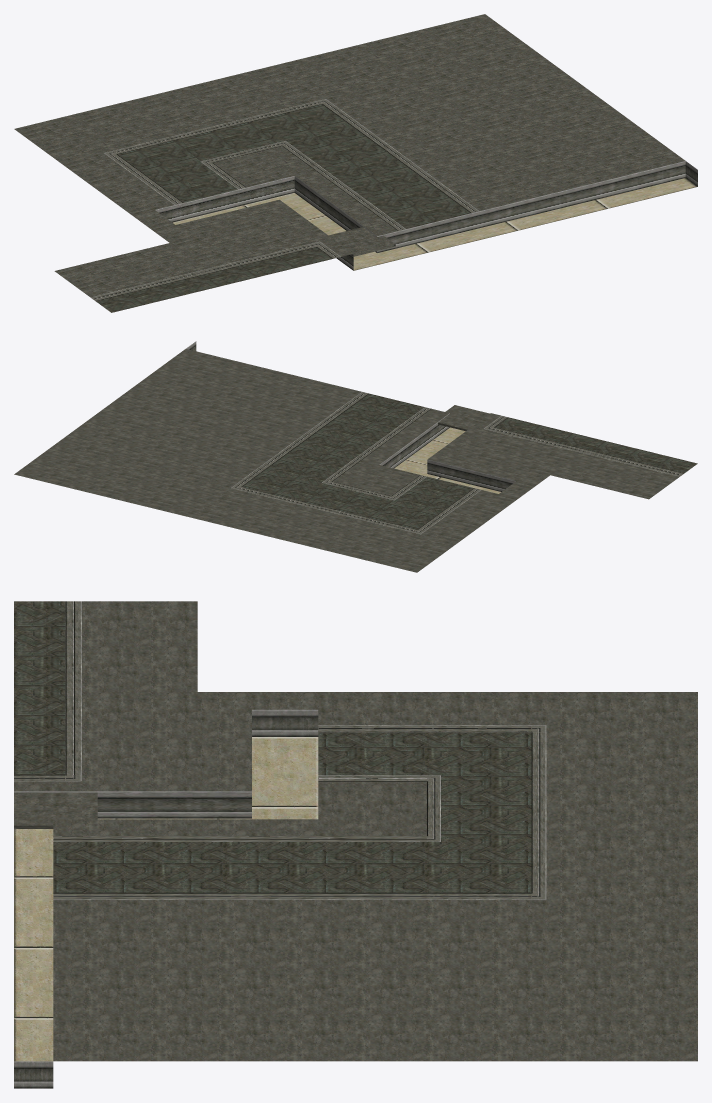
File: DWARF_PALACE_ARKENSTONE_ROOM_FLOOR.fbx
3 renders of one model, top to bottom at view 1: azimuth 30°, elevation 25°; view 2: azimuth 150°, elevation 25°; view 3: azimuth 270°, elevation 25°, orthographic. The views are drawn at different scales.
Visible parts, largest first — view 1: DWARF_PALACE_ARKENSTONE_ROOM_FLOOR; view 2: DWARF_PALACE_ARKENSTONE_ROOM_FLOOR; view 3: DWARF_PALACE_ARKENSTONE_ROOM_FLOOR.
Boxes of the visible parts, x1=… form: DWARF_PALACE_ARKENSTONE_ROOM_FLOOR: x1=14, y1=14, x2=697, y2=312; DWARF_PALACE_ARKENSTONE_ROOM_FLOOR: x1=14, y1=341, x2=697, y2=572; DWARF_PALACE_ARKENSTONE_ROOM_FLOOR: x1=14, y1=601, x2=697, y2=1088.
Size of the model in its own units: 361006 by 9997 by 227000.
6 materials, 6 textured.
